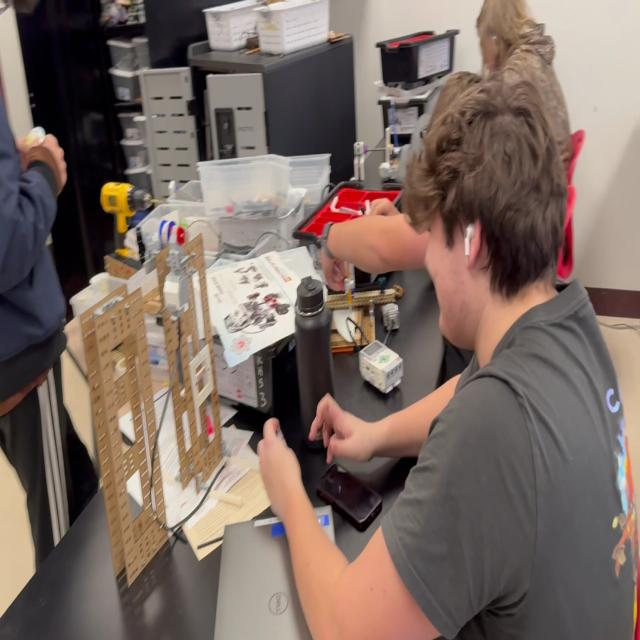pen: (316, 462, 382, 533)
